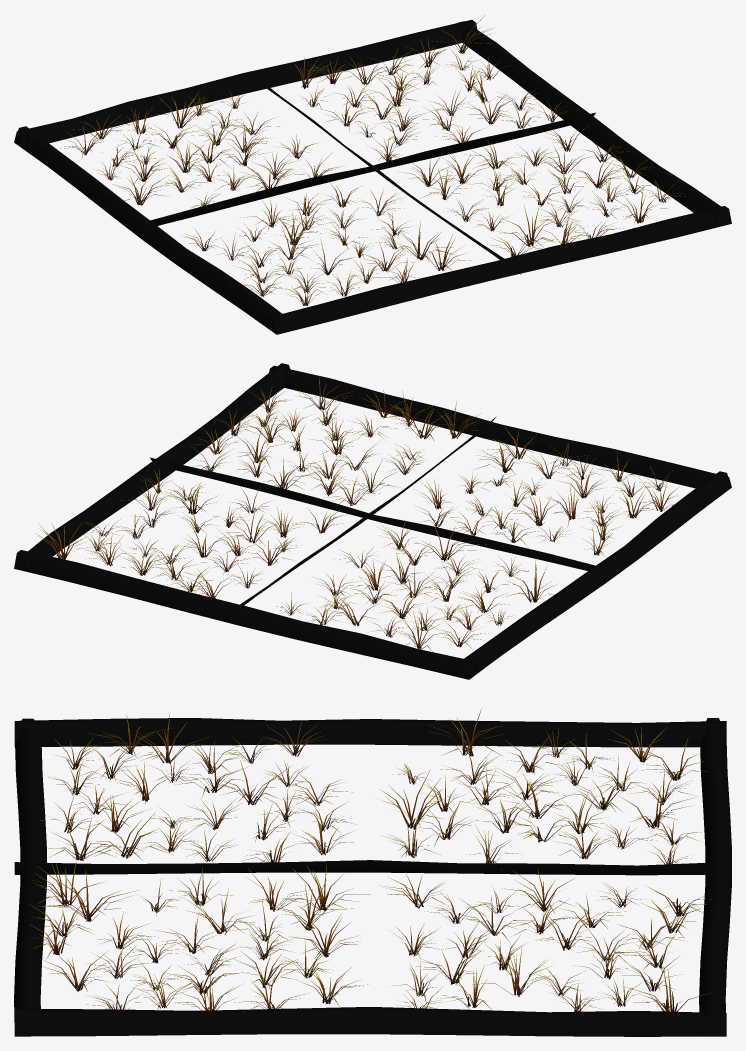
The model's file is patch_paddy_quad.glb.
3 renders of one model, top to bottom at view 1: azimuth 30°, elevation 25°; view 2: azimuth 150°, elevation 25°; view 3: azimuth 270°, elevation 25°, orthographic. The views are drawn at different scales.
Parts seen in each view (by area): view 1: patch_paddy_quad; view 2: patch_paddy_quad; view 3: patch_paddy_quad.
Part boxes in pixels (x1,y1,x2,y2): patch_paddy_quad: (14, 15, 731, 334); patch_paddy_quad: (14, 363, 731, 679); patch_paddy_quad: (14, 708, 731, 1036).
Size of the model in its own units: 12.13 by 0.8277 by 12.11.
1 material, 1 textured.
